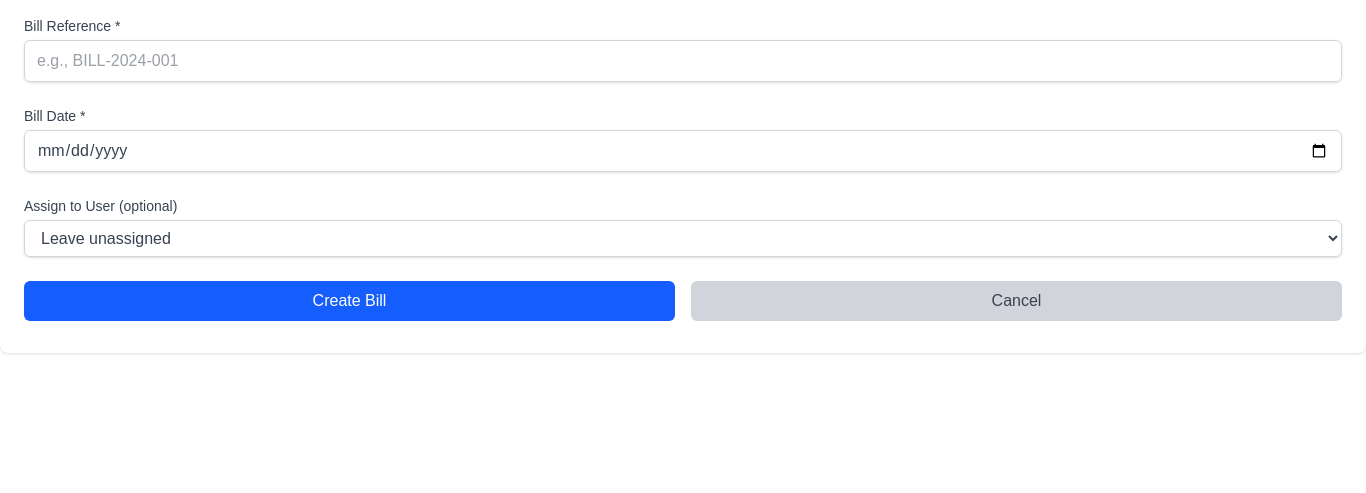
Scenario: BillForm › shows error when submitting empty bill date
Type "BILL-TEST-001" into the field with test id "bill-reference-input" at (683, 61), box [24,40,1342,82]
Wait 500 ms
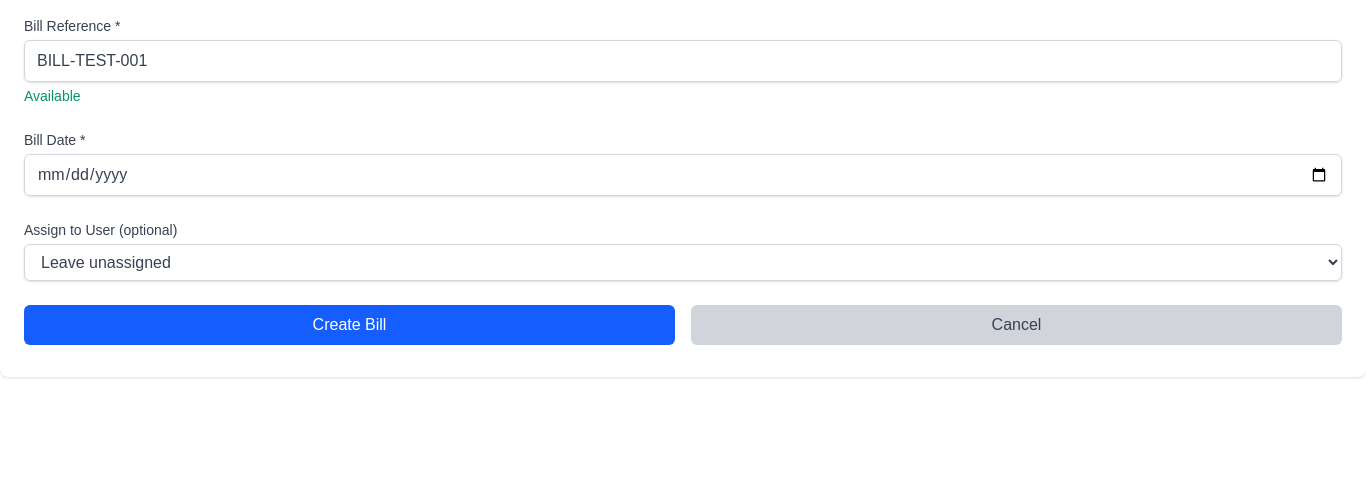
Expected: the button with test id "submit-button" is enabled, [24,305,675,345]
Submit the form
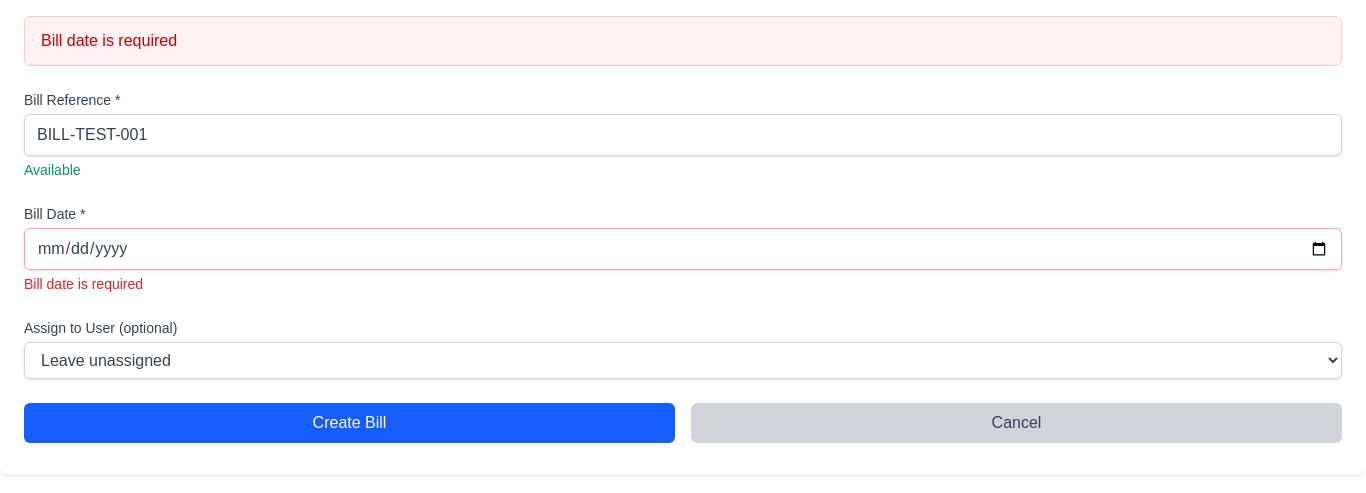
Expected: the message with test id "form-error" reads "Bill date is required", [41,32,177,49]
